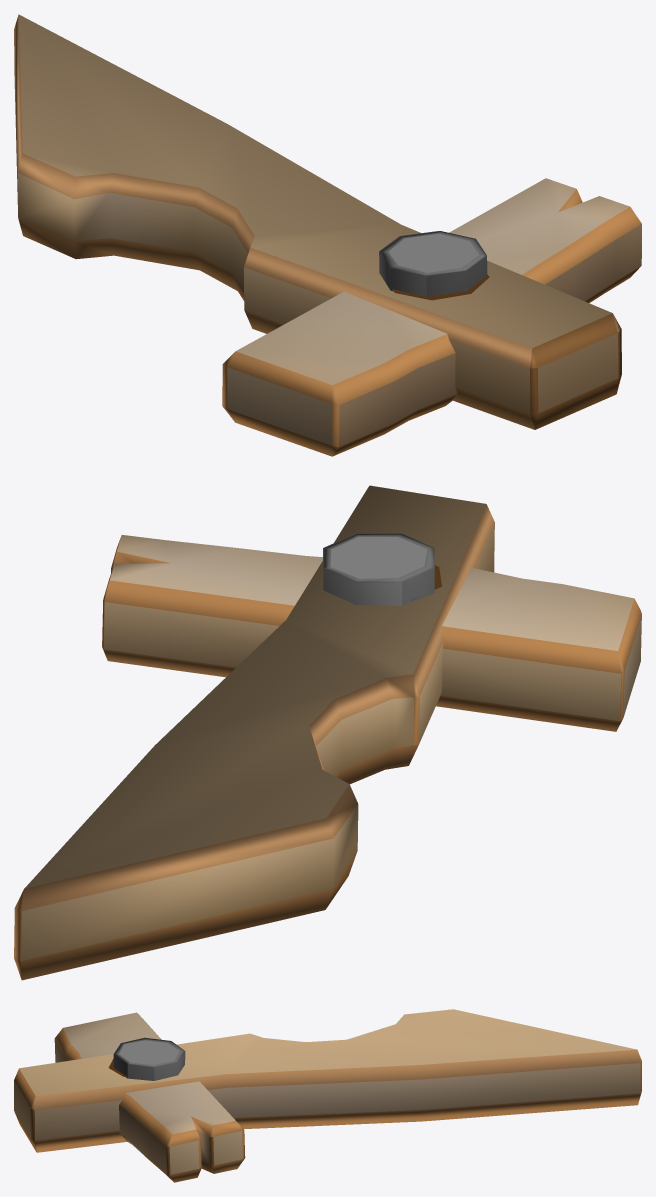
Rendered from sword.fbx.
3 renders of one model, top to bottom at view 1: azimuth 30°, elevation 25°; view 2: azimuth 150°, elevation 25°; view 3: azimuth 270°, elevation 25°, orthographic. The views are drawn at different scales.
Visible parts, largest first — view 1: sword; view 2: sword; view 3: sword.
Boxes of the visible parts, <box> form: sword: <box>14,14,641,456</box>; sword: <box>14,485,641,980</box>; sword: <box>14,1009,641,1182</box>.
Bounding box in the file's own units: 49.13 × 12.58 × 92.18.
